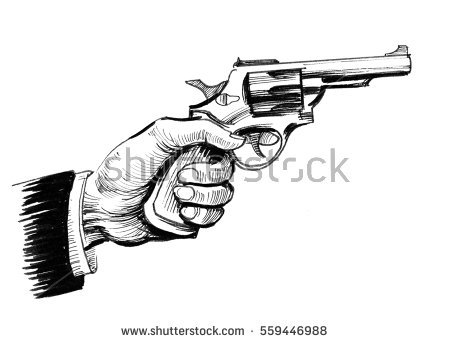pistol: (105, 32, 427, 276)
